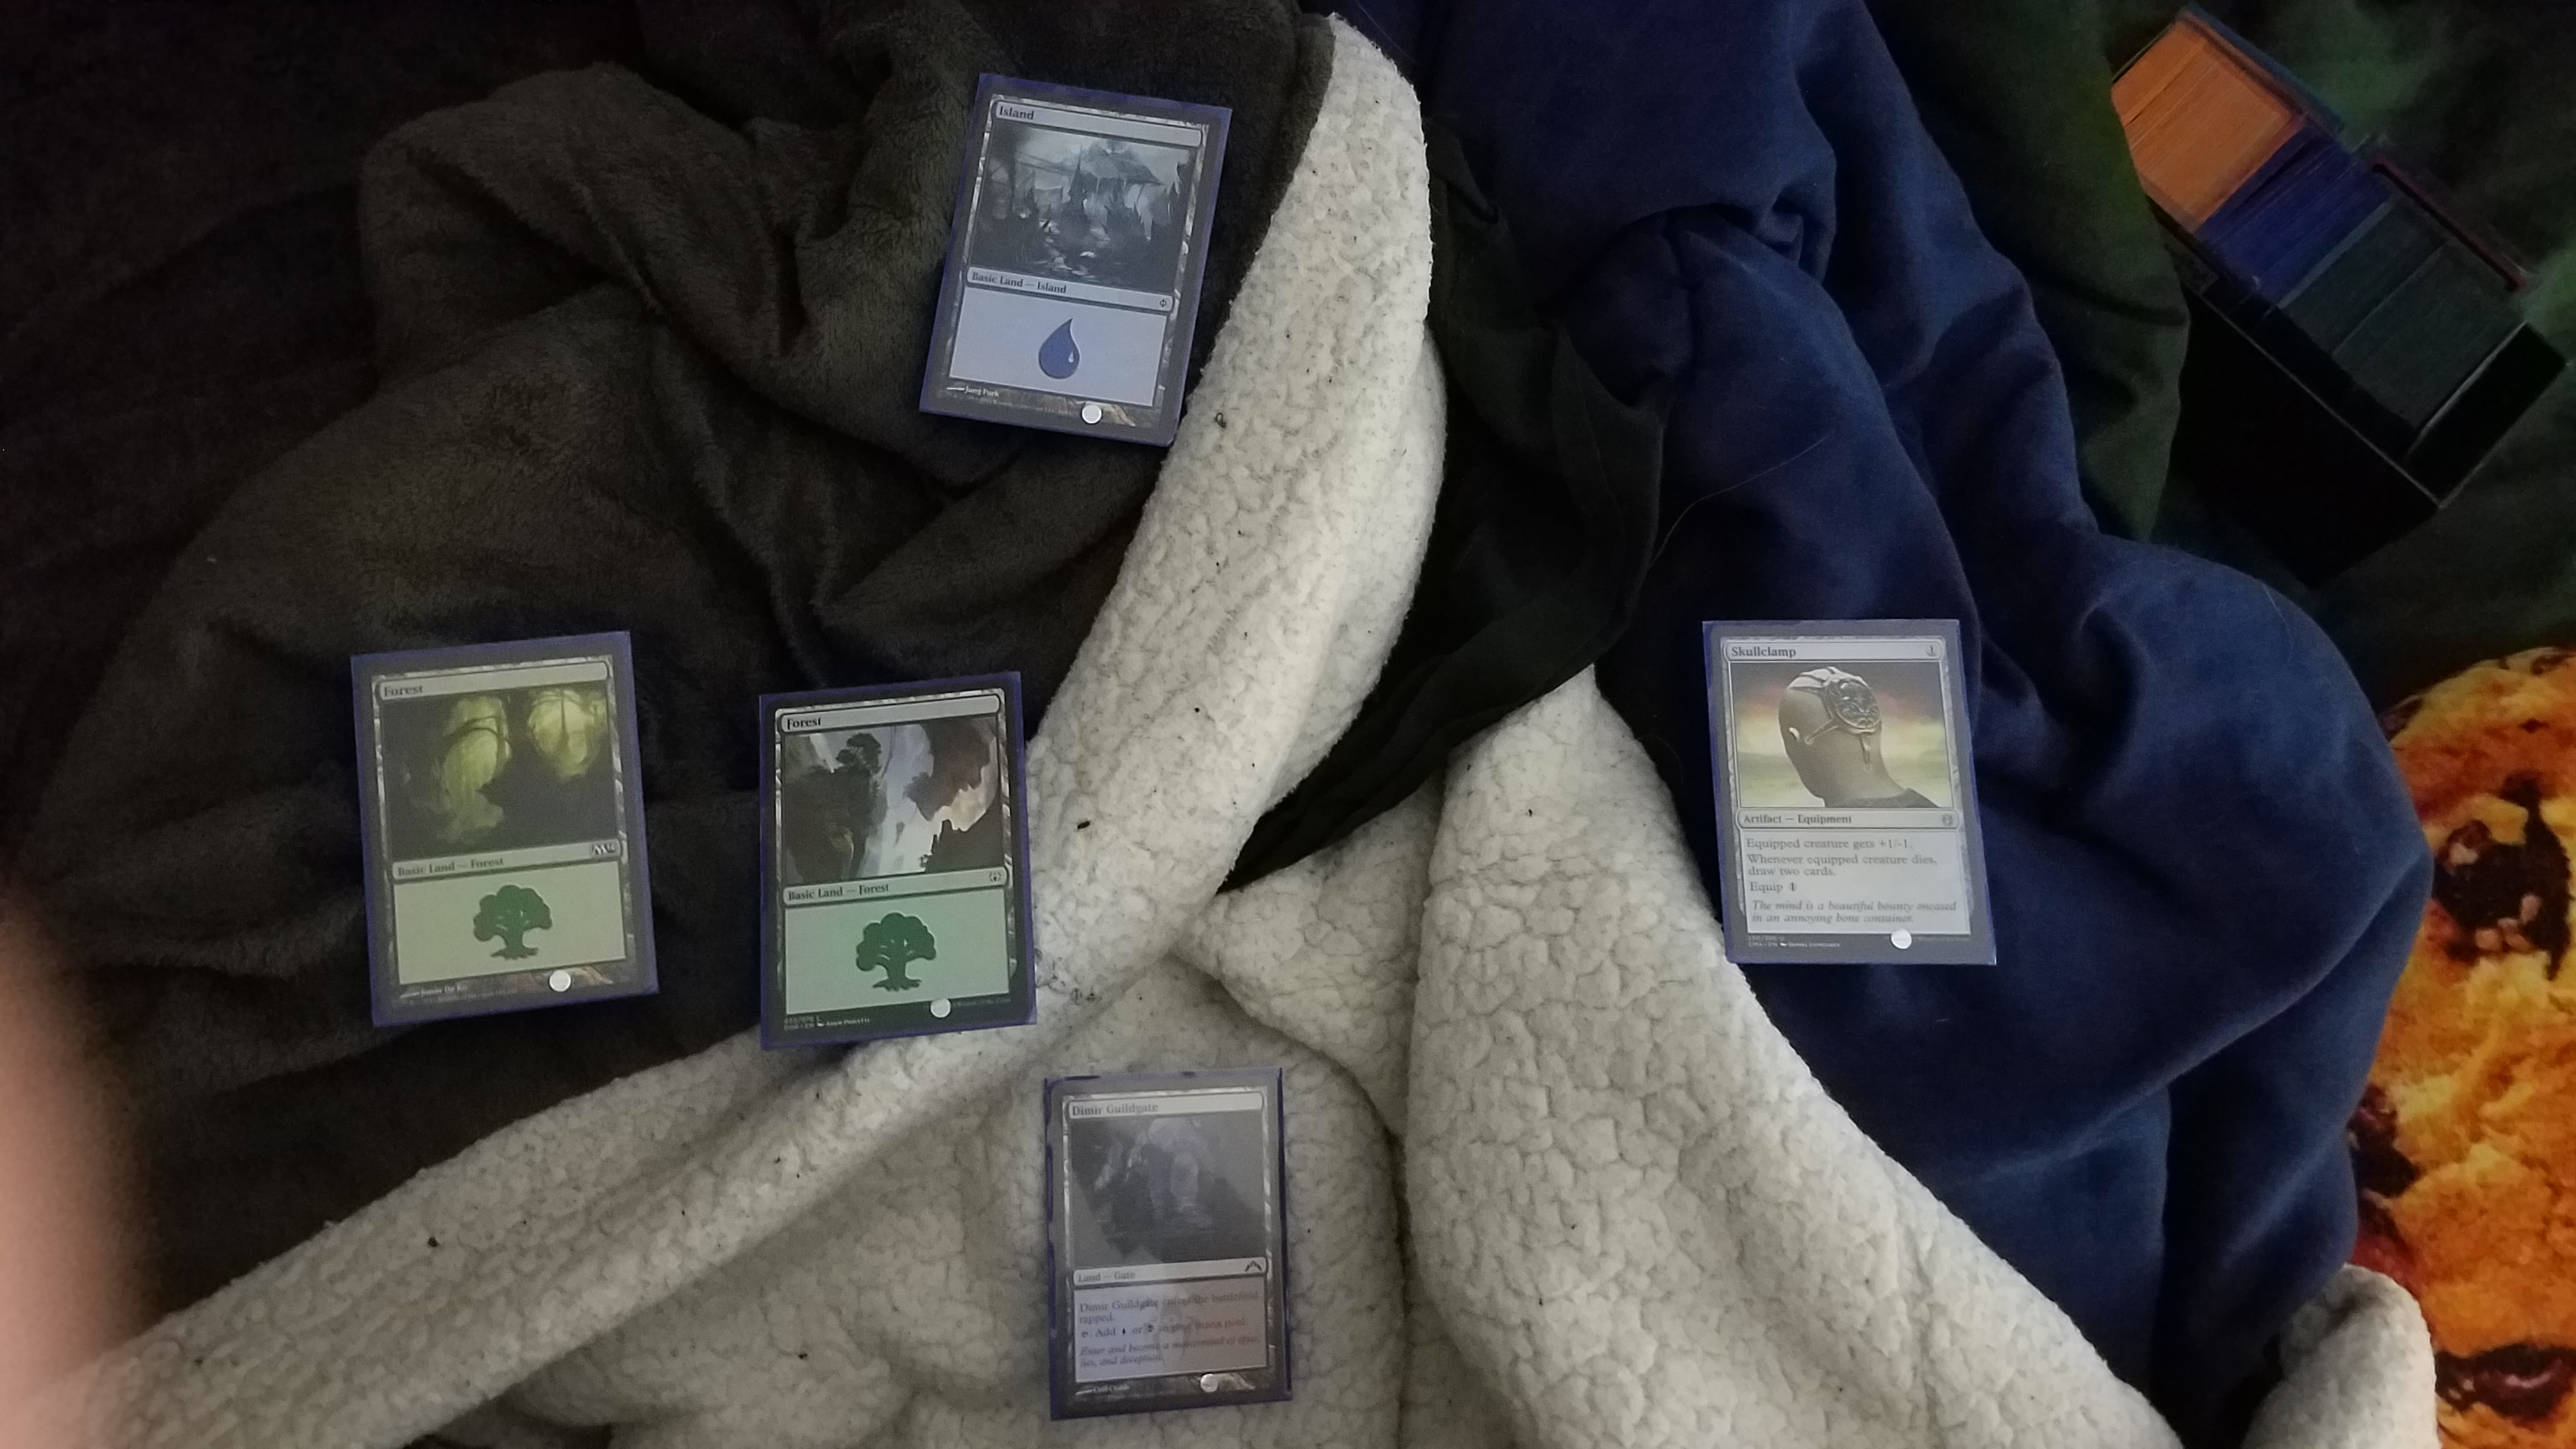Card: (354, 644, 667, 1021), (750, 672, 1037, 1047), (1704, 619, 2006, 966), (948, 83, 1214, 449), (1040, 1074, 1297, 1408)
